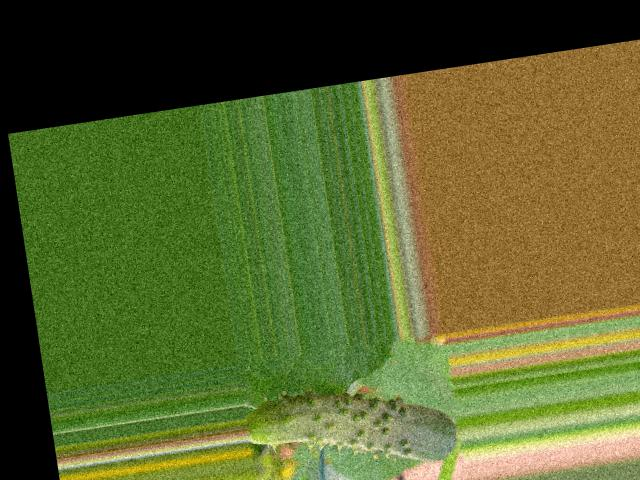cucumber: (243, 369, 461, 480)
